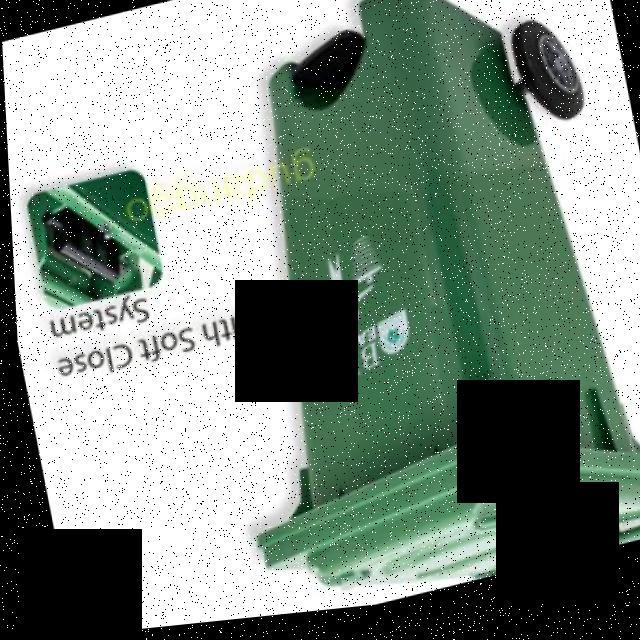bin: (145, 0, 640, 628)
